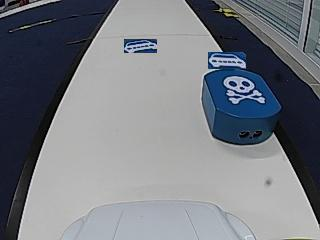danger: (224, 76, 262, 104)
